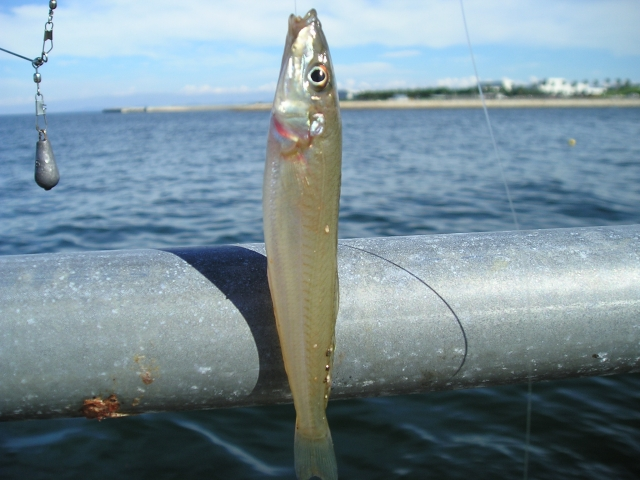kiss: (252, 4, 366, 479)
